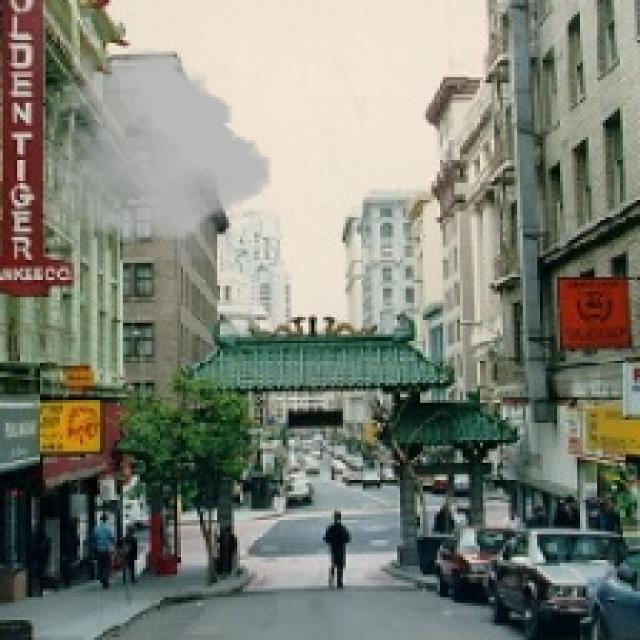Smoke: (48, 45, 272, 268)
